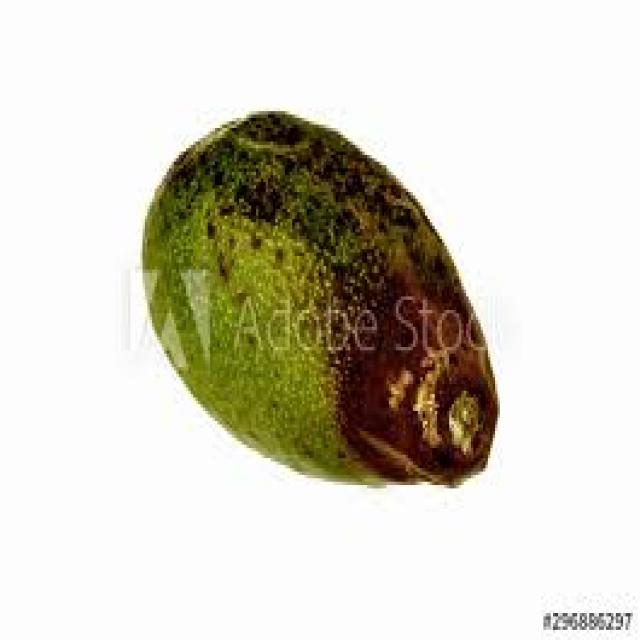organic waste: (138, 104, 495, 485)
